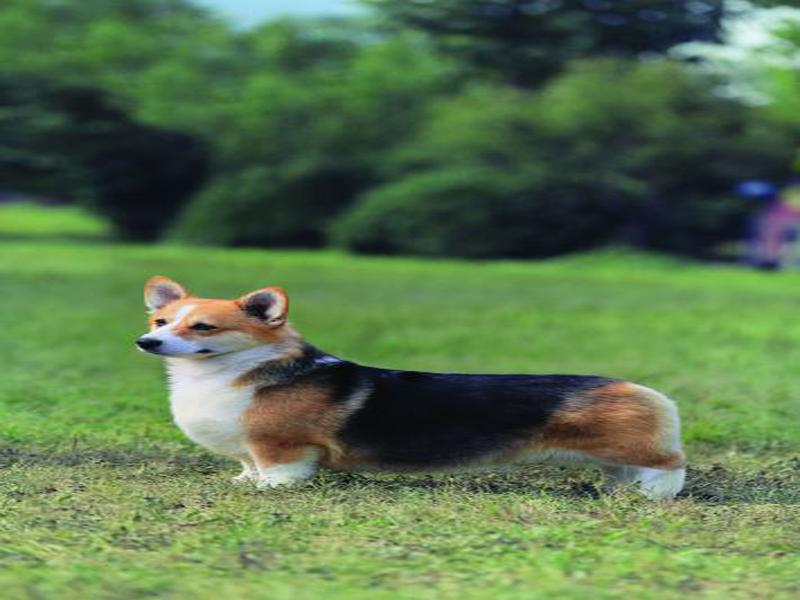corgi: (135, 276, 292, 365)
